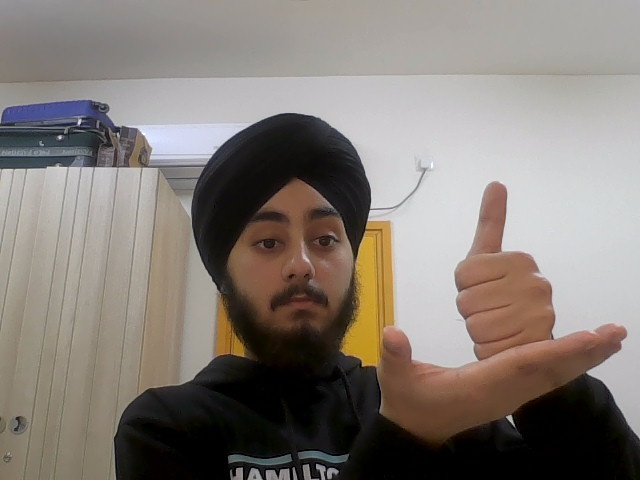Help: (380, 171, 633, 437)
